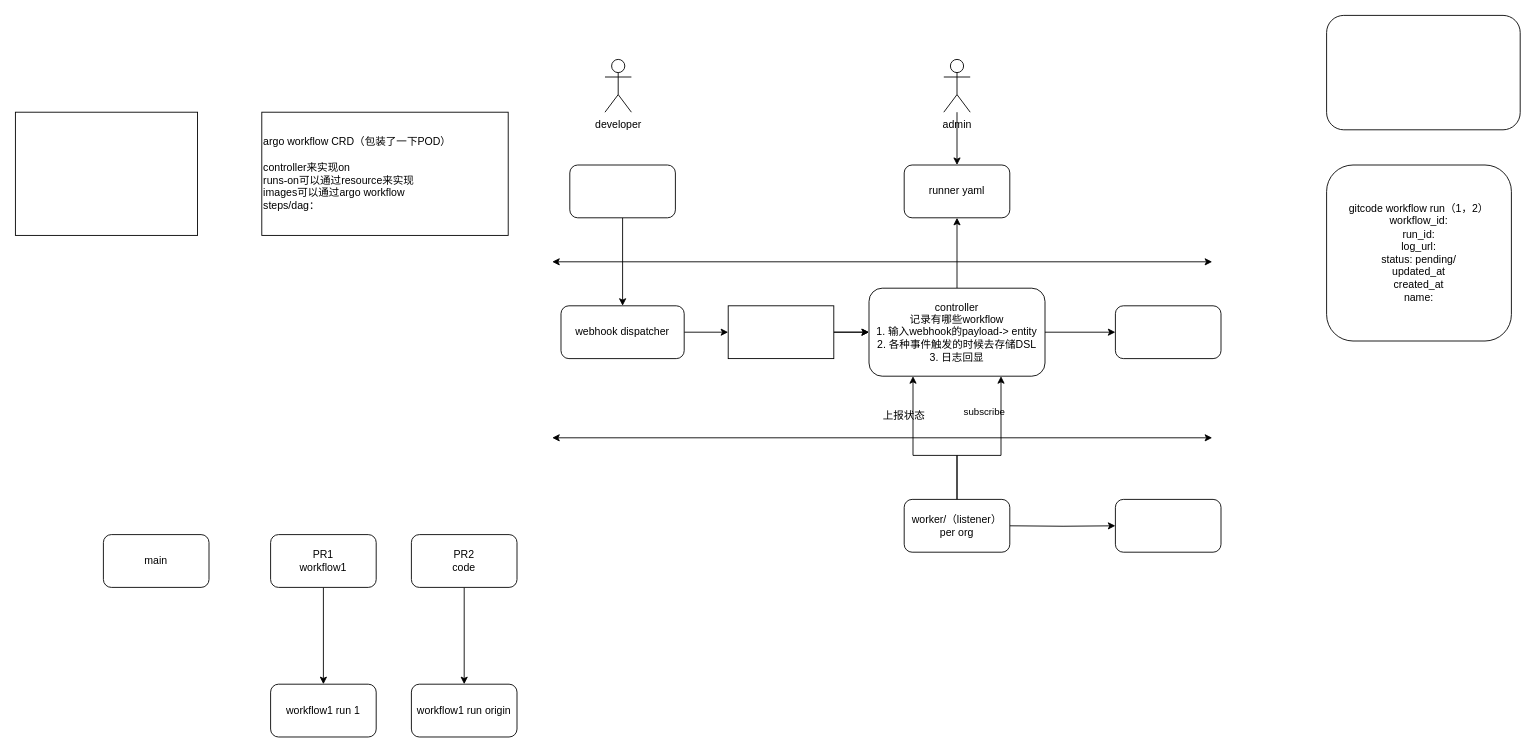
Image size: 1536x752. Some labels were removed from this diagram. Each missing label, with the box of its shape:
argo workflow: (1115, 499, 1221, 552)
gitcode: (569, 164, 675, 218)
gitcode workflow（workflow快照） image: runs-on: on: steps{}: (1326, 15, 1520, 130)
github action like yaml on（schedule，pr，tag） runs-on image steps: (15, 111, 198, 235)
robot: (727, 305, 834, 359)
store: (1115, 305, 1221, 359)
